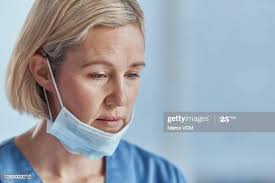mask_weared_incorrect: (29, 26, 146, 159)
